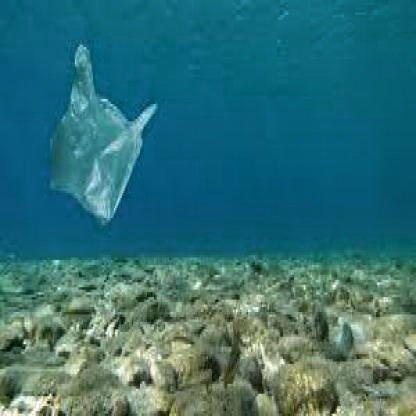pbag: (46, 42, 158, 225)
